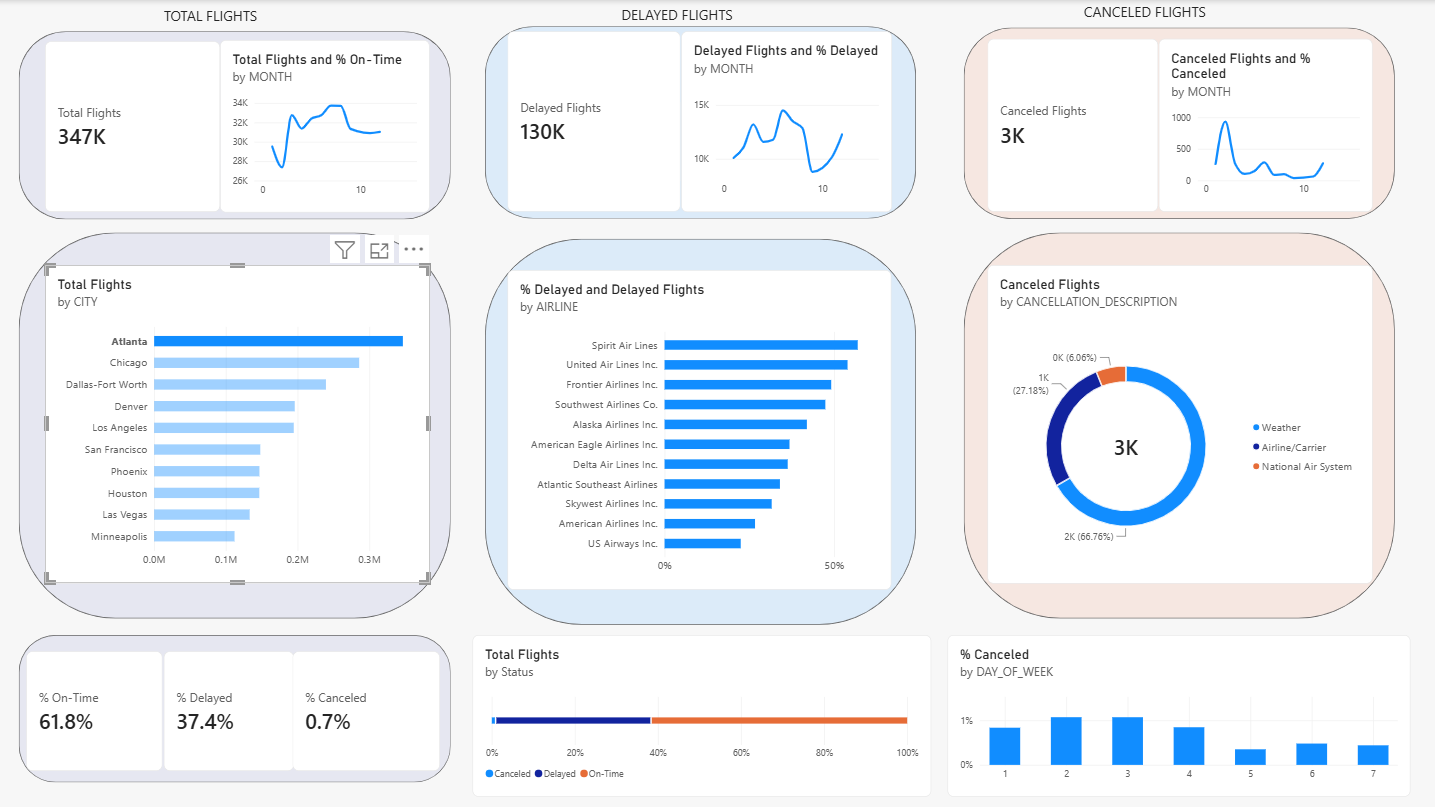

What the dashboard file says about the page in this screenshot:
{"tool":"powerbi","page":{"name":"Page 1","canvas":[1920,1080],"ordinal":0},"visuals":[{"type":"shape","box":[25.7,848.6,577.1,197.1],"z":0},{"type":"shape","box":[1287.1,310,575.7,515.7],"z":1000},{"type":"shape","box":[648.6,318.6,575.7,515.7],"z":2000},{"type":"shape","box":[25.7,310,577.1,515.7],"z":3000},{"type":"shape","box":[1287.1,37.1,575.7,255.7],"z":4000},{"type":"shape","box":[25.7,41.4,577.1,251.4],"z":5000},{"type":"shape","box":[648.6,35.7,575.7,257.1],"z":6000},{"type":"cardVisual","fields":{"Data":["flights.Total Flights"]},"box":[60,54.3,234.3,228.6],"z":7000},{"type":"lineChart","fields":{"Category":["flights.MONTH"],"Y":["flights.Total Flights"]},"box":[294.3,52.9,280,230],"z":8000},{"type":"cardVisual","fields":{"Data":["flights.Delayed Flights"]},"box":[678.6,41.4,231.4,241.4],"z":9000},{"type":"lineChart","fields":{"Category":["flights.MONTH"],"Y":["flights.Delayed Flights"]},"box":[910,41.4,281.4,241.4],"z":10000},{"type":"cardVisual","fields":{"Data":["flights.Canceled Flights"]},"box":[1318.6,51.4,228.6,231.4],"z":11000},{"type":"lineChart","fields":{"Category":["flights.MONTH"],"Y":["flights.Canceled Flights"]},"box":[1547.1,51.4,285.7,231.4],"z":12000},{"type":"cardVisual","fields":{"Data":["flights.% On-Time"]},"box":[35.7,870,182.9,160],"z":13000},{"type":"cardVisual","fields":{"Data":["flights.% Delayed"]},"box":[218,869.6,174,160],"z":14000},{"type":"cardVisual","fields":{"Data":["flights.% Canceled"]},"box":[391.4,870,197.1,160],"z":15000},{"type":"clusteredBarChart","fields":{"Category":["airports.CITY"],"Y":["flights.Total Flights"]},"box":[60,354.3,514.3,425.7],"z":16000},{"type":"clusteredBarChart","fields":{"Category":["airlines.AIRLINE"],"Y":["flights.% Delayed"]},"box":[678.6,361.4,512.9,427.1],"z":17000},{"type":"donutChart","fields":{"Category":["cancellation_codes.CANCELLATION_DESCRIPTION"],"Y":["flights.Canceled Flights"]},"box":[1318.6,354.3,514.3,425.7],"z":18000},{"type":"clusteredColumnChart","fields":{"Category":["flights.DAY_OF_WEEK"],"Y":["flights.% Canceled"]},"box":[1265.7,848.6,618.6,215.7],"z":19000},{"type":"hundredPercentStackedBarChart","fields":{"Series":["flights.Status"],"Y":["flights.Total Flights"]},"box":[631.4,848.6,612.9,215.7],"z":20000},{"type":"textbox","box":[218,8,286,30],"z":21000},{"type":"textbox","box":[830,6,160,36],"z":22000},{"type":"textbox","box":[1448,4,196,40],"z":23000}]}

Visuals, with their boxes in screenshot pixels (x1, y1, x2, y2), scaled from the page's 1920x1080 canvas onto the 1435x807 screenshot:
shape: detection(19, 634, 451, 781)
shape: detection(962, 232, 1392, 617)
shape: detection(485, 238, 915, 623)
shape: detection(19, 232, 451, 617)
shape: detection(962, 28, 1392, 219)
shape: detection(19, 31, 451, 219)
shape: detection(485, 27, 915, 219)
cardVisual - flights.Total Flights: detection(45, 41, 220, 211)
lineChart - flights.MONTH x flights.Total Flights: detection(220, 40, 429, 211)
cardVisual - flights.Delayed Flights: detection(507, 31, 680, 211)
lineChart - flights.MONTH x flights.Delayed Flights: detection(680, 31, 890, 211)
cardVisual - flights.Canceled Flights: detection(986, 38, 1156, 211)
lineChart - flights.MONTH x flights.Canceled Flights: detection(1156, 38, 1370, 211)
cardVisual - flights.% On-Time: detection(27, 650, 163, 770)
cardVisual - flights.% Delayed: detection(163, 650, 293, 769)
cardVisual - flights.% Canceled: detection(293, 650, 440, 770)
clusteredBarChart - airports.CITY x flights.Total Flights: detection(45, 265, 429, 583)
clusteredBarChart - airlines.AIRLINE x flights.% Delayed: detection(507, 270, 891, 589)
donutChart - cancellation_codes.CANCELLATION_DESCRIPTION x flights.Canceled Flights: detection(986, 265, 1370, 583)
clusteredColumnChart - flights.DAY_OF_WEEK x flights.% Canceled: detection(946, 634, 1408, 795)
hundredPercentStackedBarChart - flights.Status x flights.Total Flights: detection(472, 634, 930, 795)
textbox: detection(163, 6, 377, 28)
textbox: detection(620, 4, 740, 31)
textbox: detection(1082, 3, 1229, 33)
